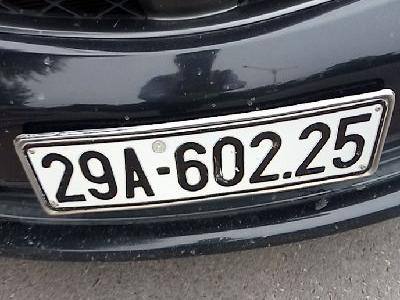lisence: (12, 85, 395, 220)
